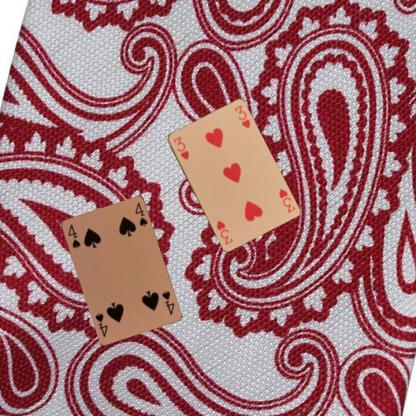3h: (276, 186, 297, 214), (171, 134, 190, 161)
4s: (159, 288, 176, 316), (66, 221, 82, 250)
